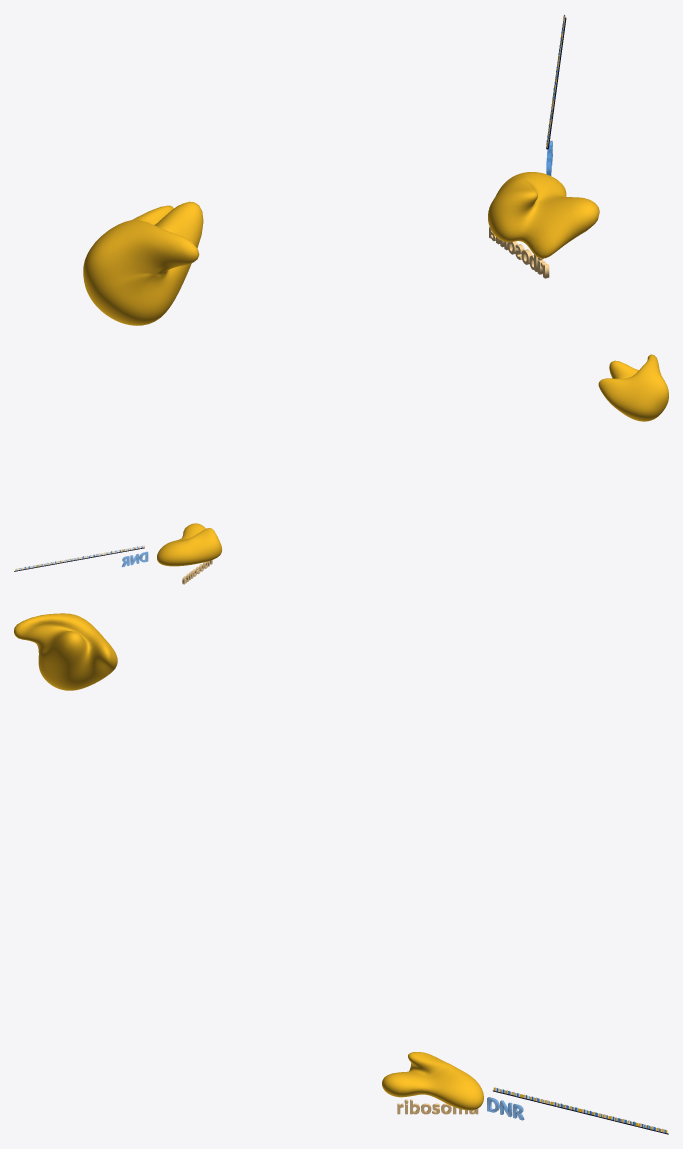
File: transliacija.glb
3 views of the same model, one above another, from view 1: azimuth 30°, elevation 25°; view 2: azimuth 150°, elevation 25°; view 3: azimuth 270°, elevation 25° (orthographic). The views are drawn at different scales.
Visible parts, largest first — view 1: Didysis subvienetas, Mažasis subvienetas, Text, DNR.; view 2: Didysis subvienetas, Mažasis subvienetas, DNR.; view 3: Didysis subvienetas, Mažasis subvienetas, DNR..
Part boxes in pixels (x1,y1,x2,y2): Didysis subvienetas: (83,201,203,325); Mažasis subvienetas: (488,172,599,258); Text: (489,227,549,278); DNR.: (546,14,566,149); Didysis subvienetas: (598,354,668,421); Mažasis subvienetas: (157,523,221,566); DNR.: (14,545,144,571); Didysis subvienetas: (14,613,117,690); Mažasis subvienetas: (382,1052,483,1110); DNR.: (493,1087,668,1134).
Size of what is drawn, in the model's own units: 1.33 by 0.5443 by 1.17.
